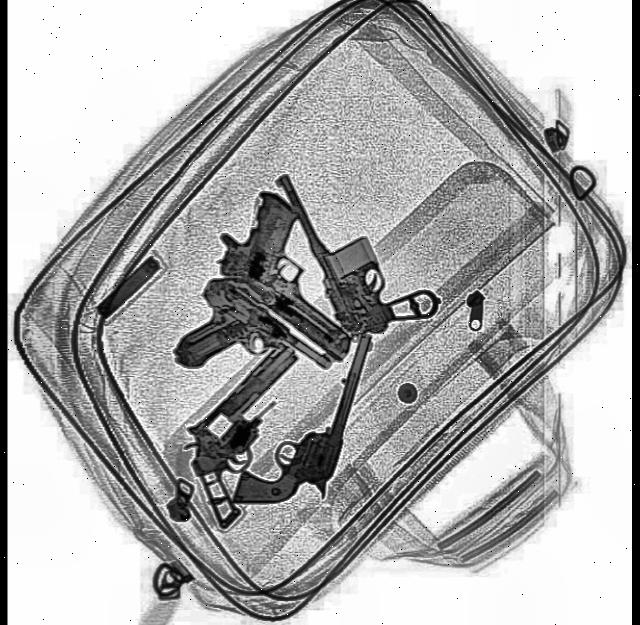Gun: (269, 127, 442, 356), (162, 330, 344, 527), (203, 176, 390, 366), (231, 301, 376, 532), (164, 268, 332, 441)
